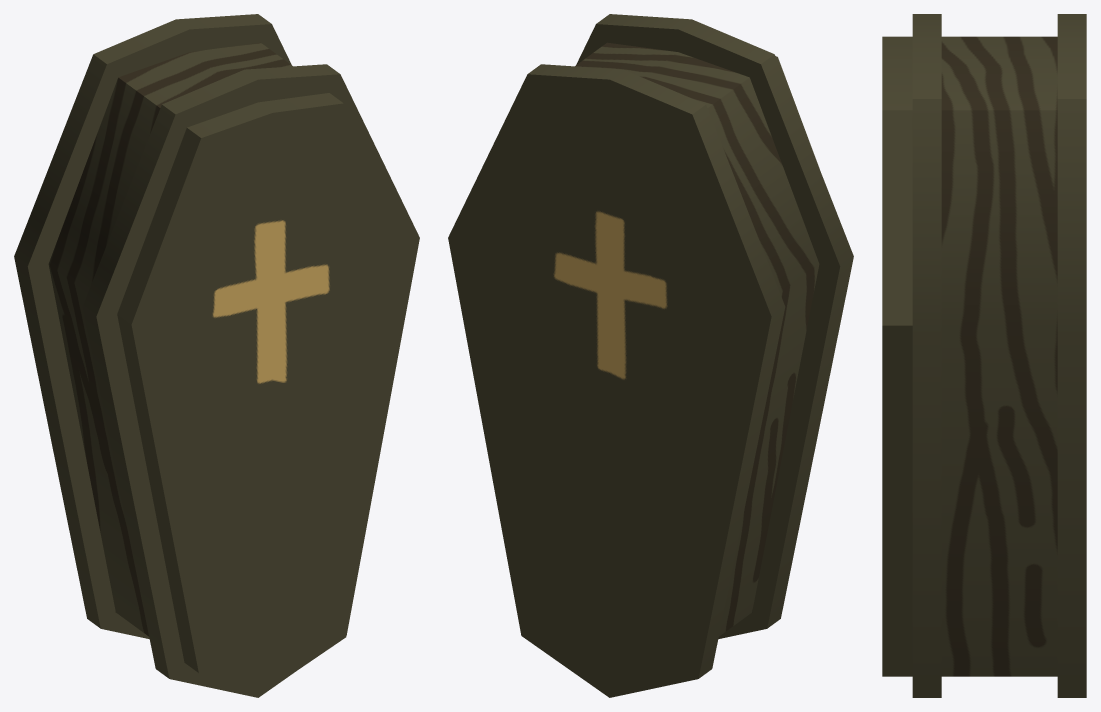
The model's file is AssetAtaud.fbx.
The picture shows the model from 3 angles, left to right: view 1: azimuth 30°, elevation 25°; view 2: azimuth 150°, elevation 25°; view 3: azimuth 270°, elevation 25°; orthographic projection. The views are drawn at different scales.
Visible parts, largest first — view 1: Ataud; view 2: Ataud; view 3: Ataud.
Part boxes in pixels (box(x1,y1,x2,y2)): Ataud: box(14, 14, 419, 697); Ataud: box(448, 14, 853, 697); Ataud: box(882, 14, 1086, 697).
Bounding box in the file's own units: 2.27 × 4.14 × 1.17.
